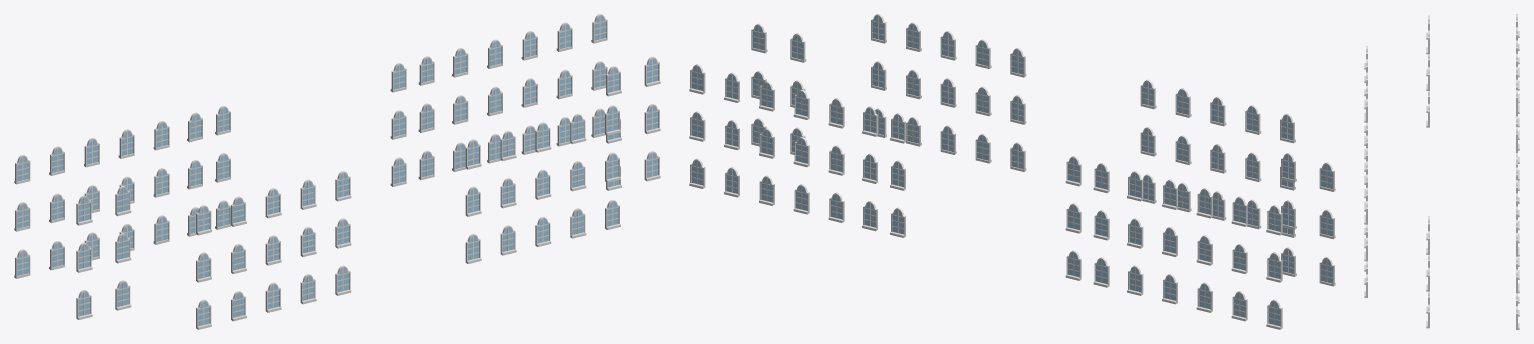
File: House_Windows.fbx
The picture shows the model from 3 angles, left to right: view 1: azimuth 30°, elevation 25°; view 2: azimuth 150°, elevation 25°; view 3: azimuth 270°, elevation 25°; orthographic projection. The views are drawn at different scales.
Size of the model in its own units: 6300 by 1236 by 1846.
